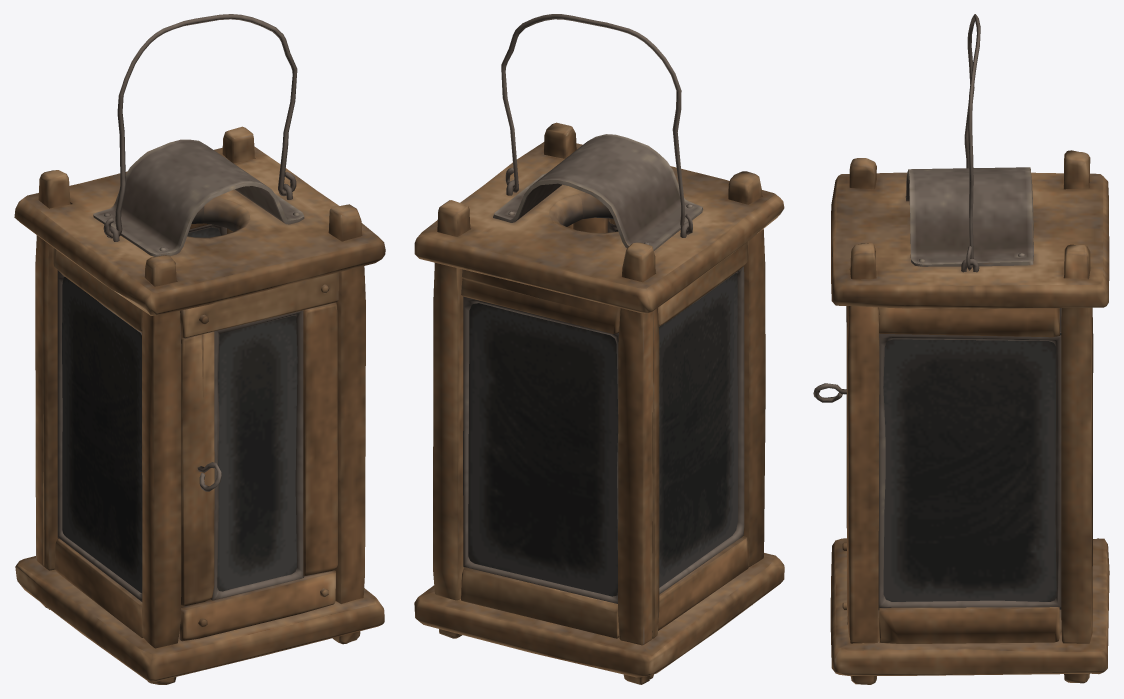
Rendered from wooden_lantern_01.glb.
3 renders of one model, left to right at view 1: azimuth 30°, elevation 25°; view 2: azimuth 150°, elevation 25°; view 3: azimuth 270°, elevation 25°, orthographic.
Visible parts, largest first — view 1: wooden_lantern_01, wooden_lantern_01_door, wooden_lantern_01_handle; view 2: wooden_lantern_01, wooden_lantern_01_handle, wooden_lantern_01_door; view 3: wooden_lantern_01, wooden_lantern_01_handle, wooden_lantern_01_door.
Part boxes in pixels (x1=…): wooden_lantern_01: x1=14, y1=126, x2=385, y2=684; wooden_lantern_01_door: x1=178, y1=272, x2=339, y2=641; wooden_lantern_01_handle: x1=103, y1=14, x2=297, y2=238; wooden_lantern_01: x1=414, y1=122, x2=784, y2=684; wooden_lantern_01_handle: x1=501, y1=14, x2=692, y2=234; wooden_lantern_01_door: x1=573, y1=217, x2=617, y2=233; wooden_lantern_01: x1=830, y1=150, x2=1109, y2=684; wooden_lantern_01_handle: x1=964, y1=14, x2=980, y2=270; wooden_lantern_01_door: x1=813, y1=306, x2=847, y2=624.
Size of the model in its own units: 0.221 by 0.5301 by 0.2347.
Materials: 2 (2 with a texture image).
